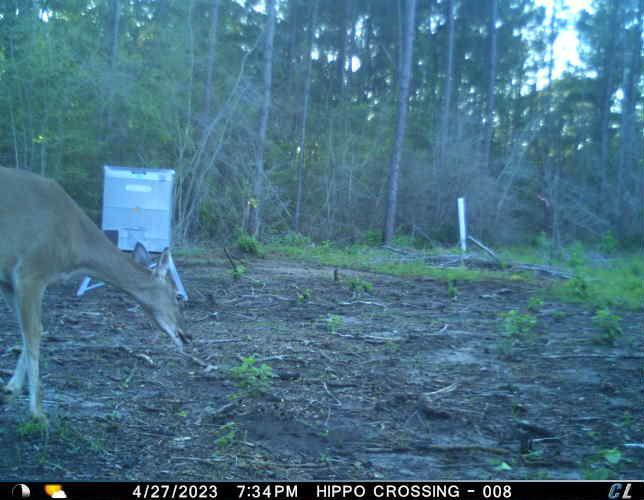Deer: (0, 162, 194, 421)
